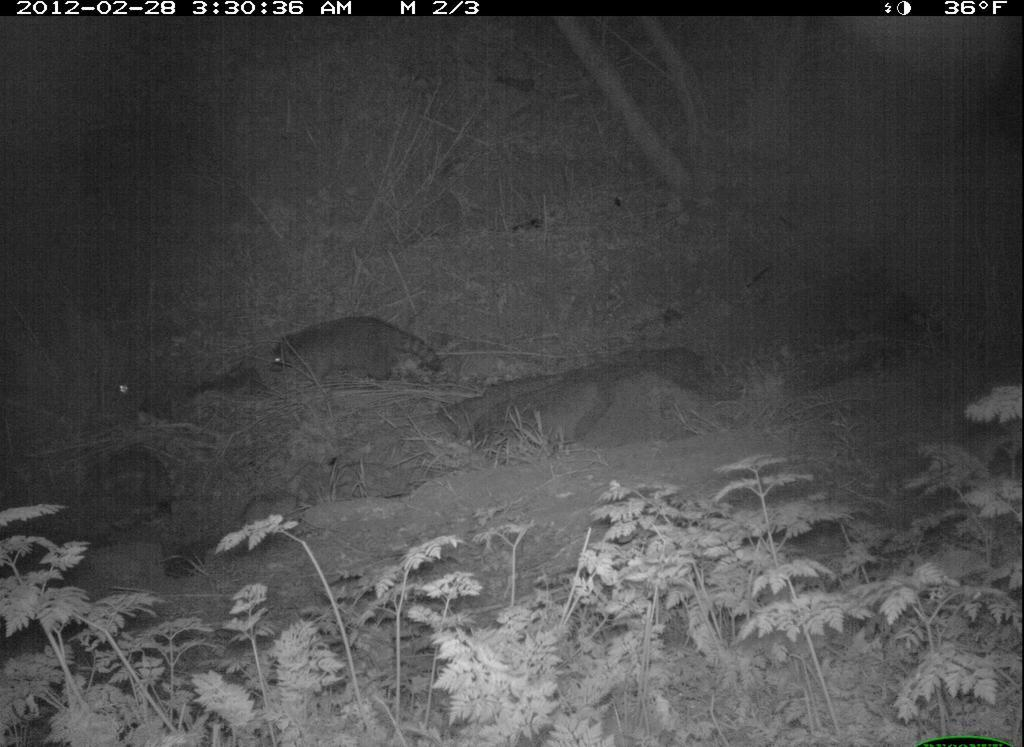raccoon: (253, 304, 464, 409)
